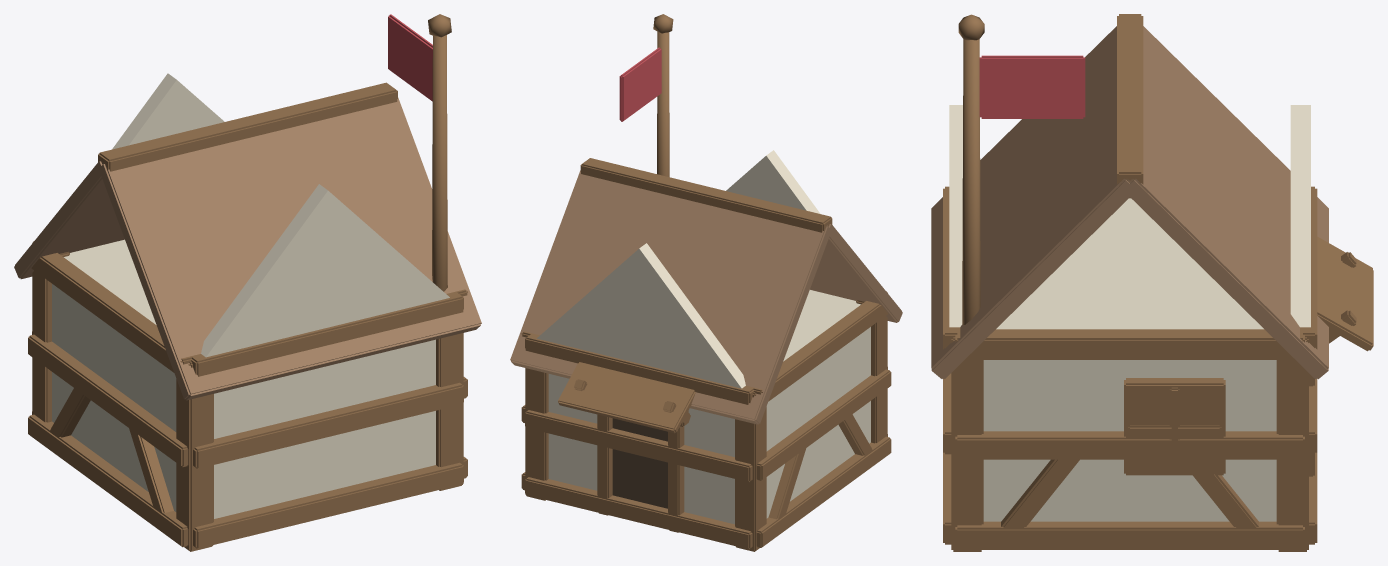
File: barracks.glb
The picture shows the model from 3 angles, left to right: view 1: azimuth 30°, elevation 25°; view 2: azimuth 150°, elevation 25°; view 3: azimuth 270°, elevation 25°; orthographic projection. The views are drawn at different scales.
Parts seen in each view (by area): view 1: plaster, wood, roof, banner; view 2: wood, roof, plaster, dark, banner; view 3: wood, roof, plaster, banner.
Boxes of the visible parts, x1,y1,x2,y2 form: plaster: [52, 73, 449, 518]; wood: [28, 14, 467, 551]; roof: [14, 97, 481, 400]; banner: [388, 14, 432, 101]; wood: [521, 14, 891, 551]; roof: [510, 170, 902, 424]; plaster: [537, 150, 870, 524]; dark: [612, 418, 667, 508]; banner: [619, 47, 661, 121]; wood: [943, 14, 1373, 551]; roof: [931, 26, 1328, 379]; plaster: [949, 105, 1310, 521]; banner: [979, 55, 1085, 118].
Bounding box in the file's own units: 1.88 × 2.88 × 2.18.
